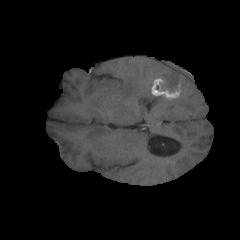glioma: (110, 60, 195, 111)
